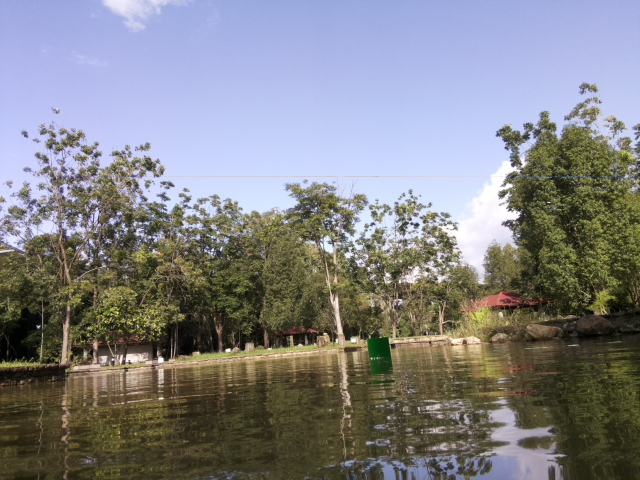obstacle: (364, 335, 391, 356)
